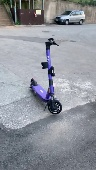beam: (27, 36, 66, 115)
